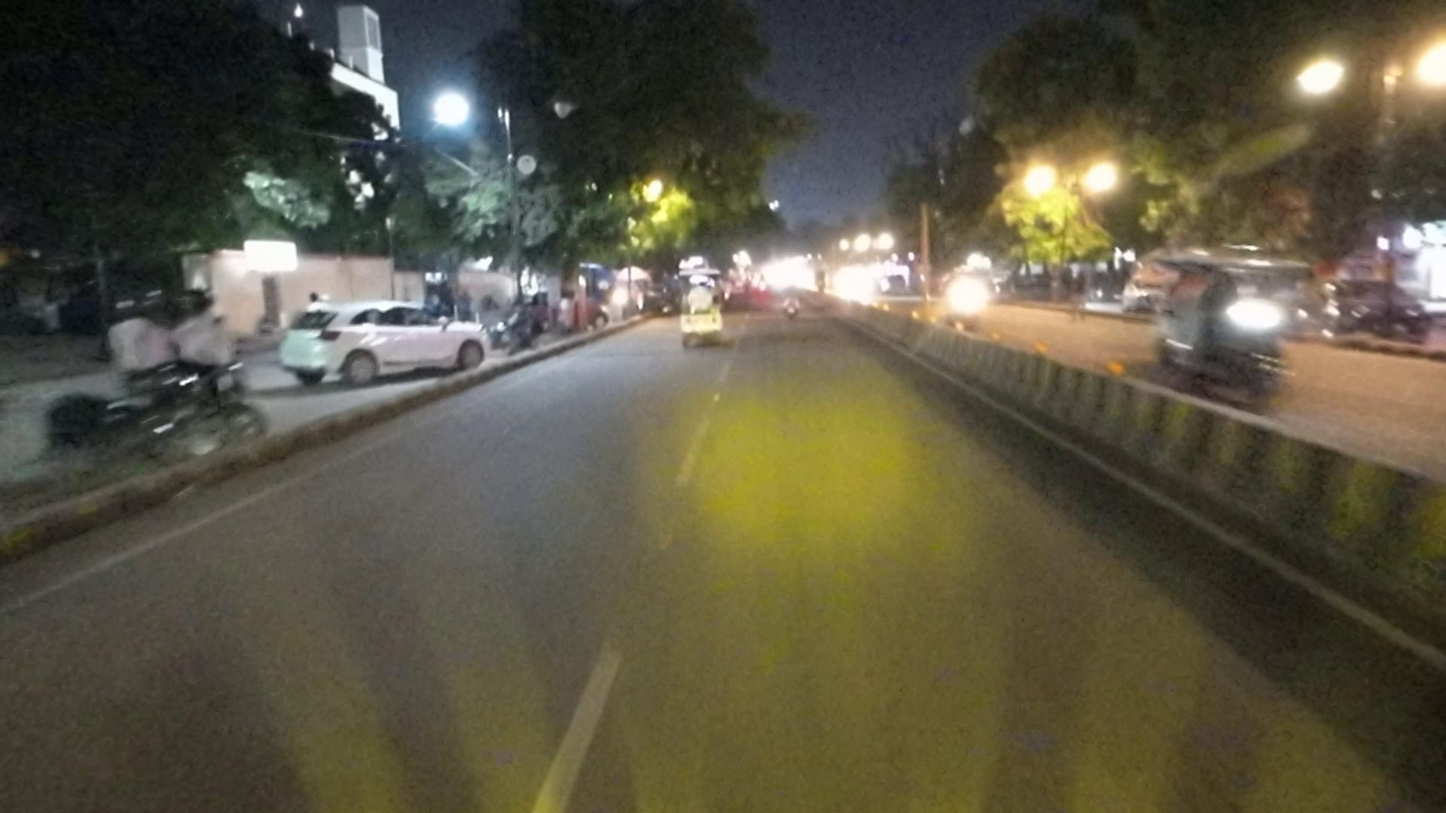streetlight: (546, 72, 589, 131)
